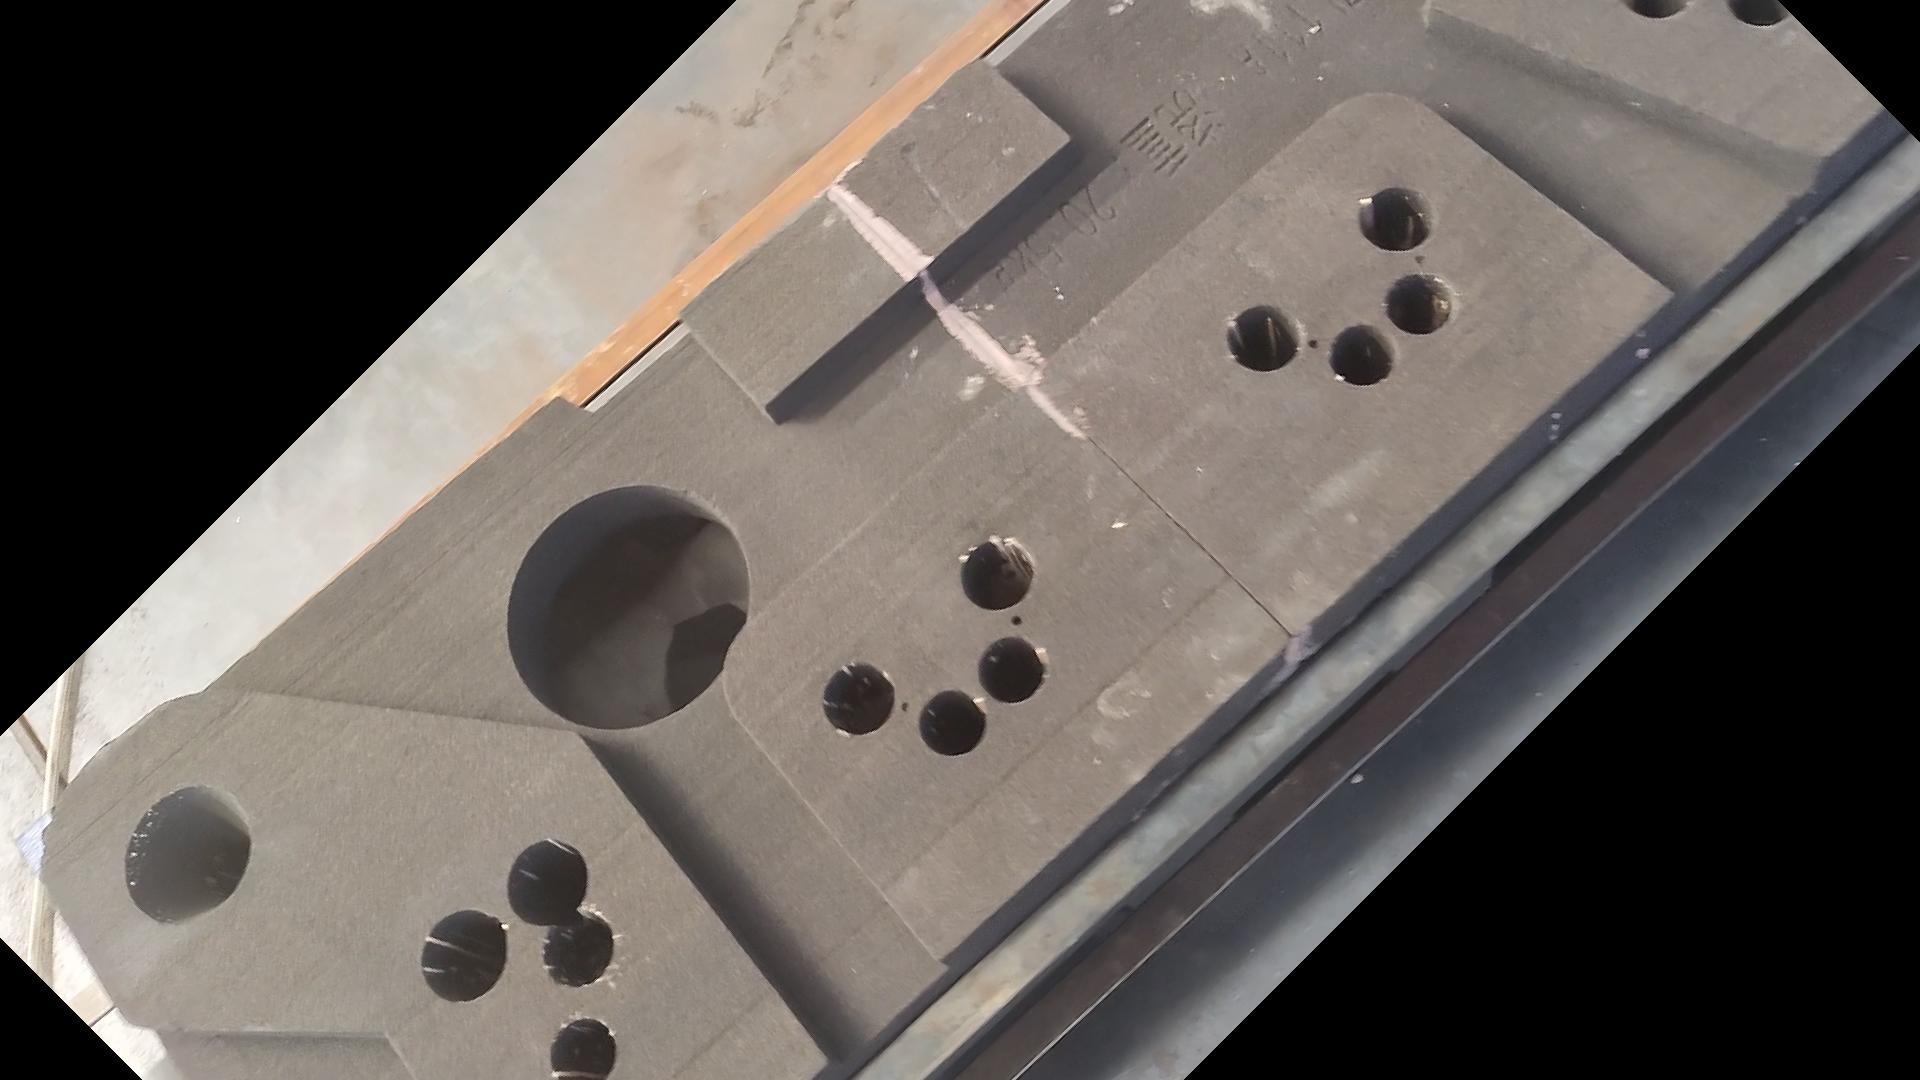pouring hole: (123, 782, 253, 924)
